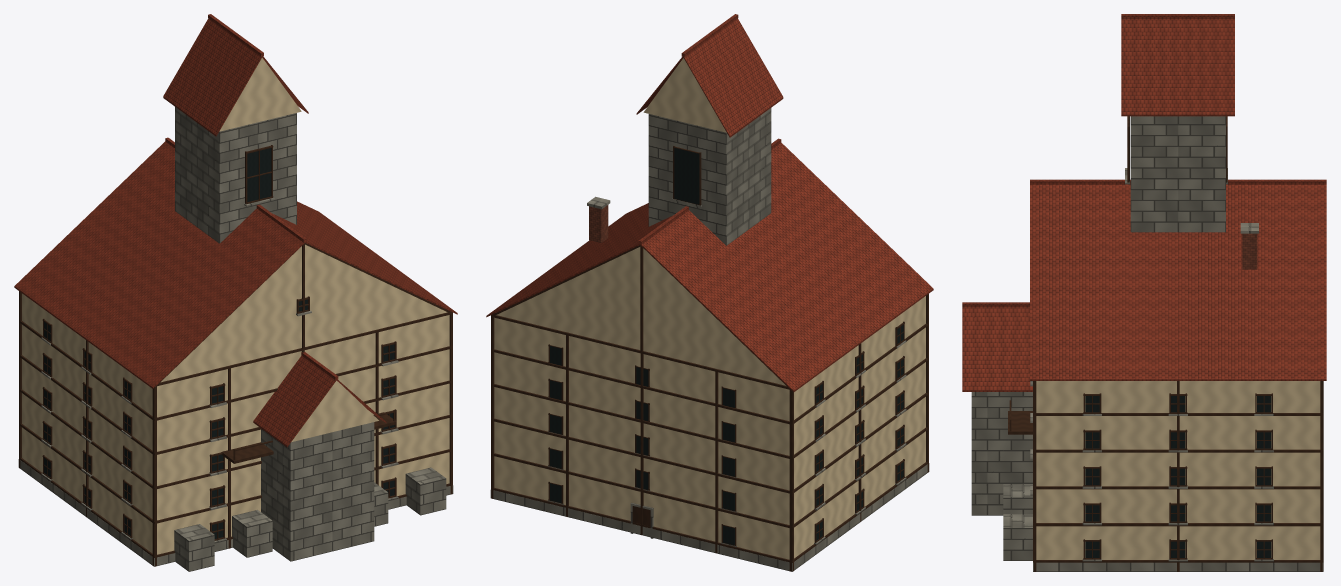
The model's file is SG_CivicHall_LOD1.fbx.
3 views of the same model, side by side, from view 1: azimuth 30°, elevation 25°; view 2: azimuth 150°, elevation 25°; view 3: azimuth 270°, elevation 25° (orthographic). The views are drawn at different scales.
Parts seen in each view (by area): view 1: SG_CivicHall_Detail1; view 2: SG_CivicHall_Detail1; view 3: SG_CivicHall_Detail1.
Part boxes in pixels (x1=…): SG_CivicHall_Detail1: x1=14, y1=14, x2=457, y2=571; SG_CivicHall_Detail1: x1=486, y1=14, x2=933, y2=571; SG_CivicHall_Detail1: x1=962, y1=14, x2=1326, y2=571.
Bounding box in the file's own units: 47.4 × 66.61 × 45.8.
